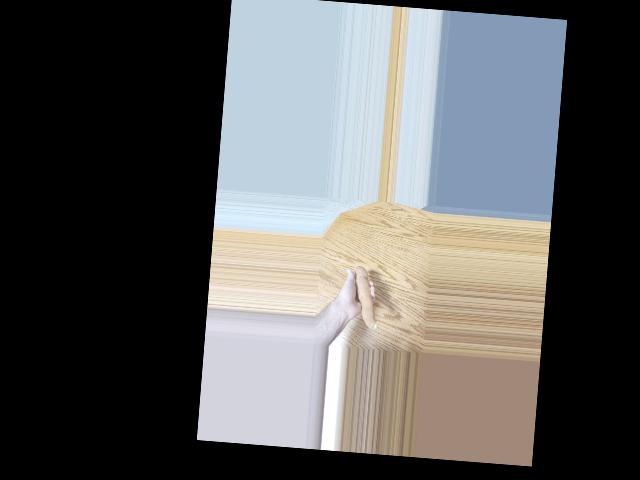sweet_potato: (350, 264, 372, 329)
